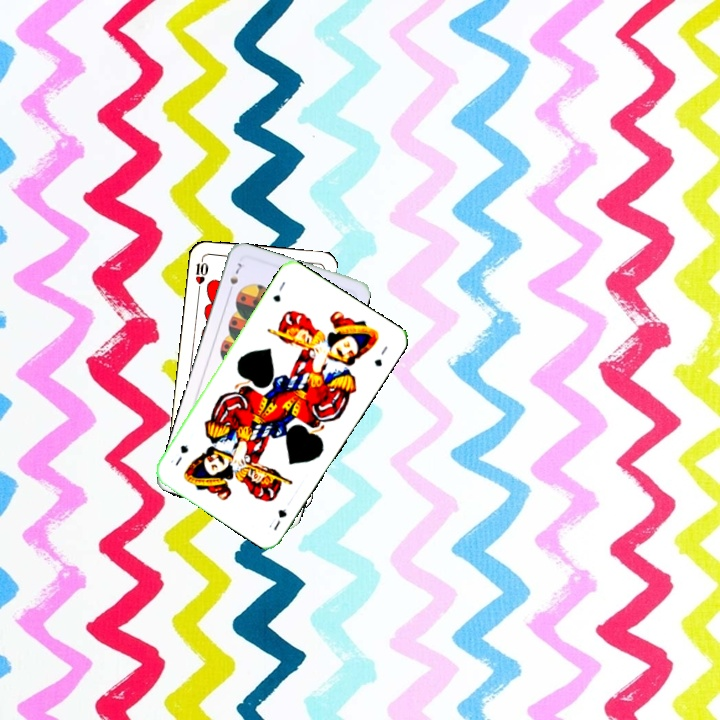GU: (265, 505, 289, 533), (269, 277, 288, 305)
H10: (191, 254, 211, 294)
S7: (224, 259, 244, 296)
